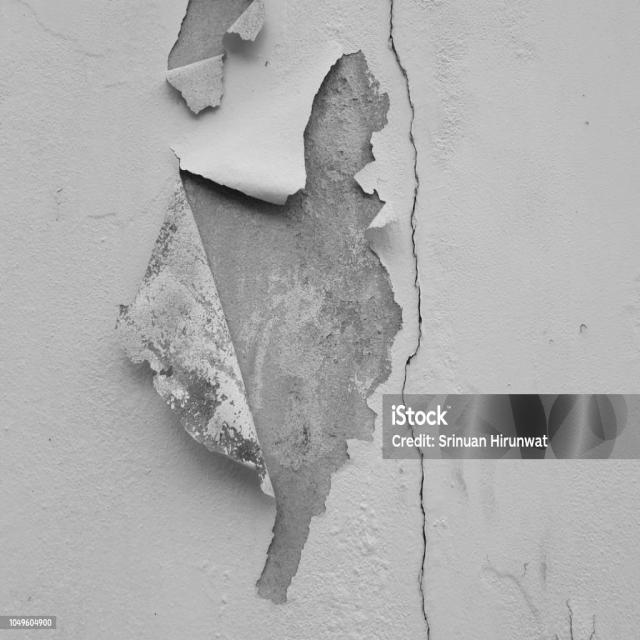peeling paint: (107, 0, 403, 620)
